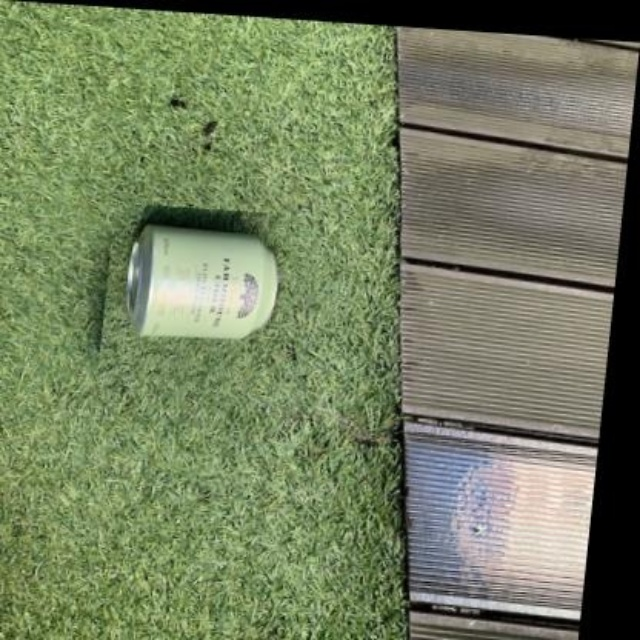trash: (128, 225, 275, 337)
